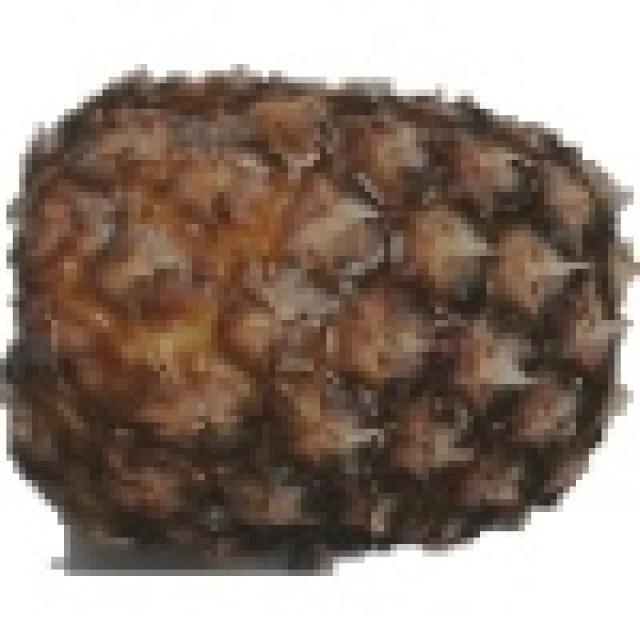pineapple: (26, 64, 634, 557)
